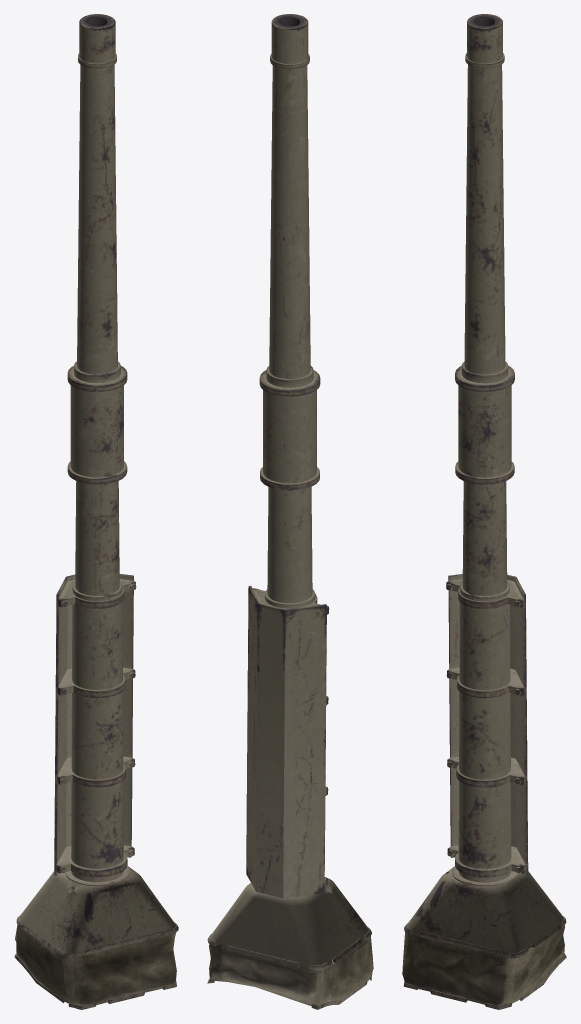
File: Gun_01.glb
The picture shows the model from 3 angles, left to right: view 1: azimuth 30°, elevation 25°; view 2: azimuth 150°, elevation 25°; view 3: azimuth 330°, elevation 25°; orthographic projection.
Visible parts, largest first — view 1: set_0_group_0; view 2: set_0_group_0; view 3: set_0_group_0.
Boxes of the visible parts, x1,y1,x2,y2 form: set_0_group_0: (14,14,178,1009); set_0_group_0: (207,14,373,1009); set_0_group_0: (402,14,566,1009).
Bounding box in the file's own units: 0.8139 × 6.06 × 0.765.
Materials: 1 (1 with a texture image).
